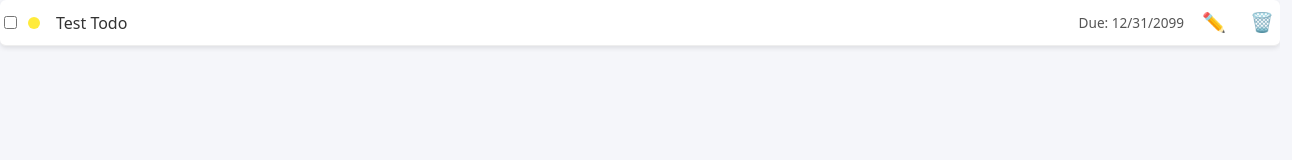
Test: TodoItem › enters edit mode
The width and height of the screenshot is (1292, 160).
What coordinates should you click on to do the following:
click the button named "edit"
I would click on:
 (1214, 22)
Its box is [1196, 10, 1232, 35].
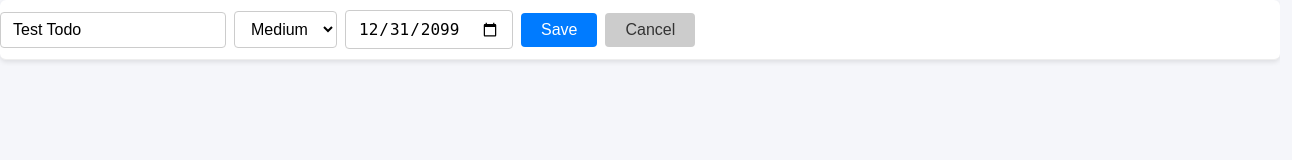
Check: the field showing "Test Todo" is shown, box [0, 12, 226, 48]
Check: the button "Save" is shown, box [521, 12, 598, 46]
